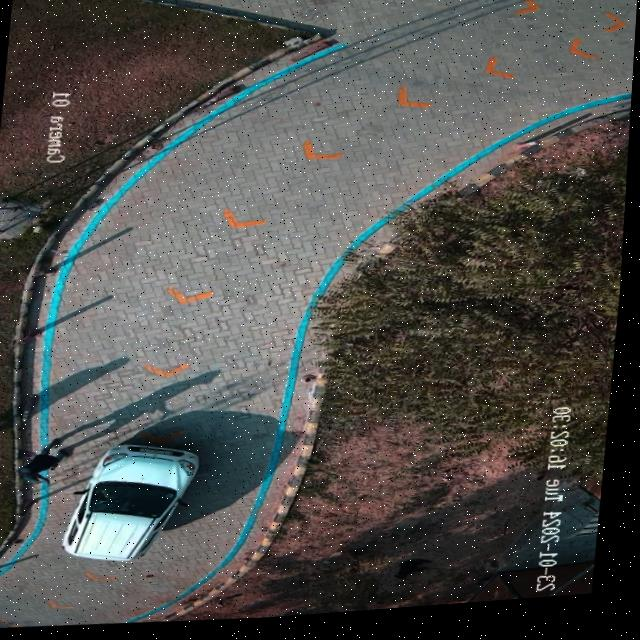car: (66, 446, 206, 564)
